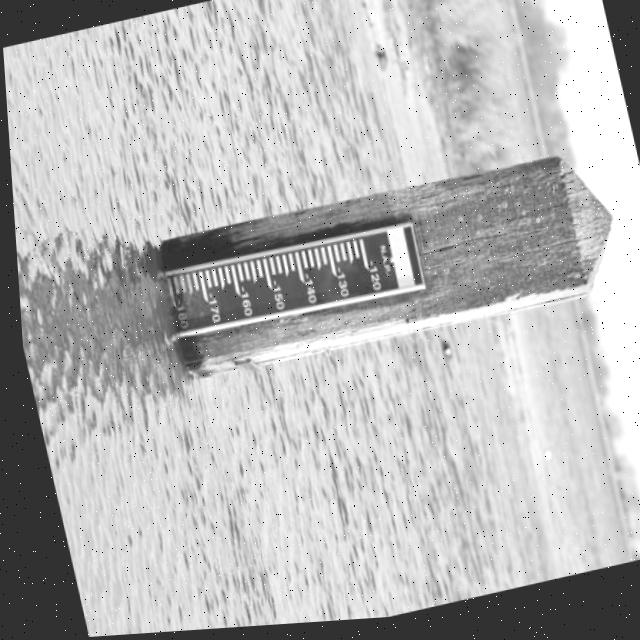water-meter: (127, 218, 428, 350)
